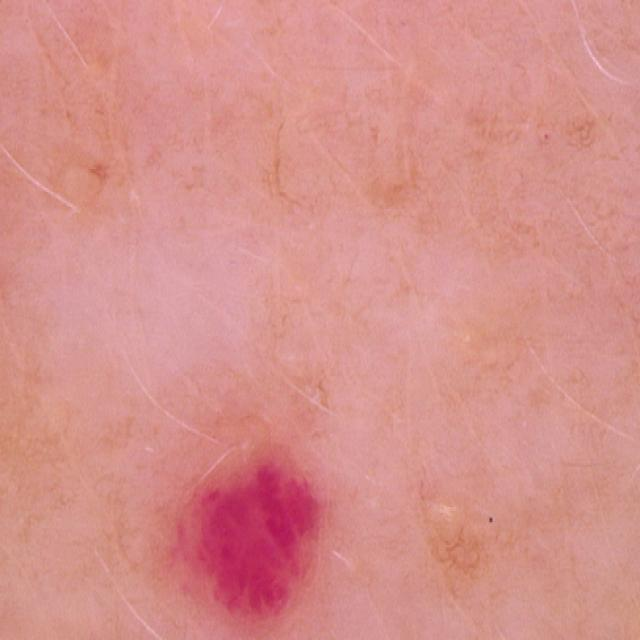Vascular Lesions: (186, 440, 331, 640)
